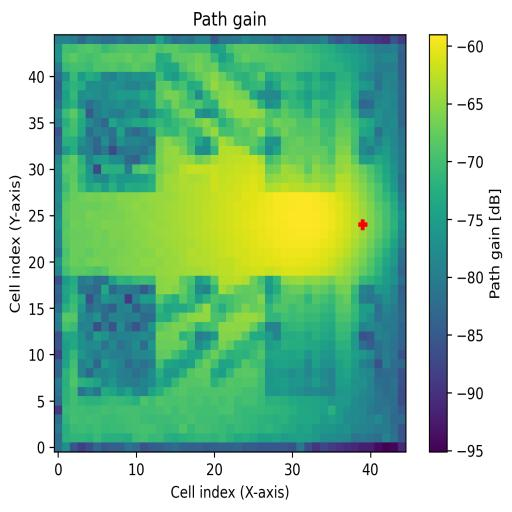Concrete: (265, 72, 336, 192)
Glass: (77, 71, 164, 192)
Metal: (264, 277, 336, 395)
Wood: (77, 276, 156, 398)
